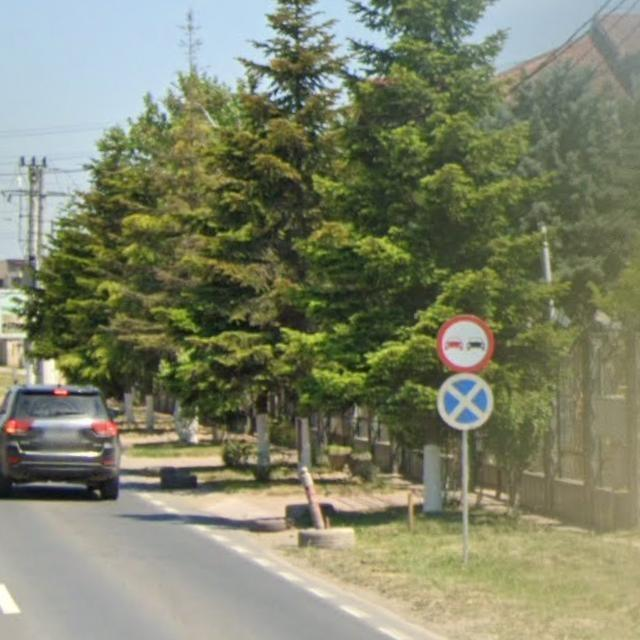forb_overtake: (437, 315, 495, 373)
forb_waiting: (437, 374, 495, 429)
